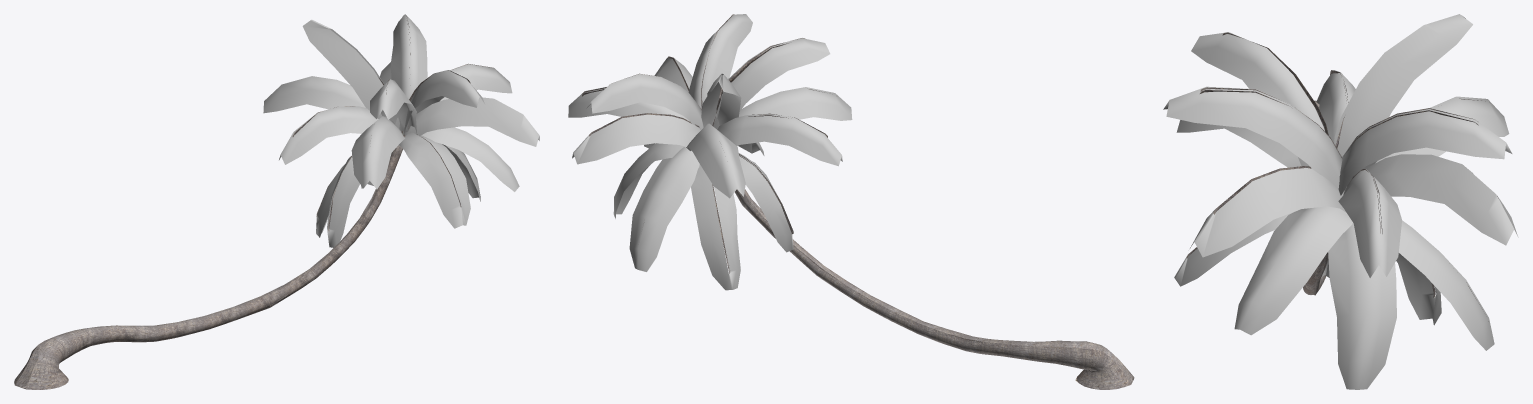
The model's file is palm1.dae.
3 views of the same model, side by side, from view 1: azimuth 30°, elevation 25°; view 2: azimuth 150°, elevation 25°; view 3: azimuth 270°, elevation 25° (orthographic). The views are drawn at different scales.
Parts seen in each view (by area): view 1: palm1; view 2: palm1; view 3: palm1.
Part boxes in pixels (bbox=[...]): palm1: bbox=[14, 14, 539, 389]; palm1: bbox=[568, 14, 1134, 389]; palm1: bbox=[1163, 14, 1518, 389].
Bounding box in the file's own units: 322 × 147 × 128.
